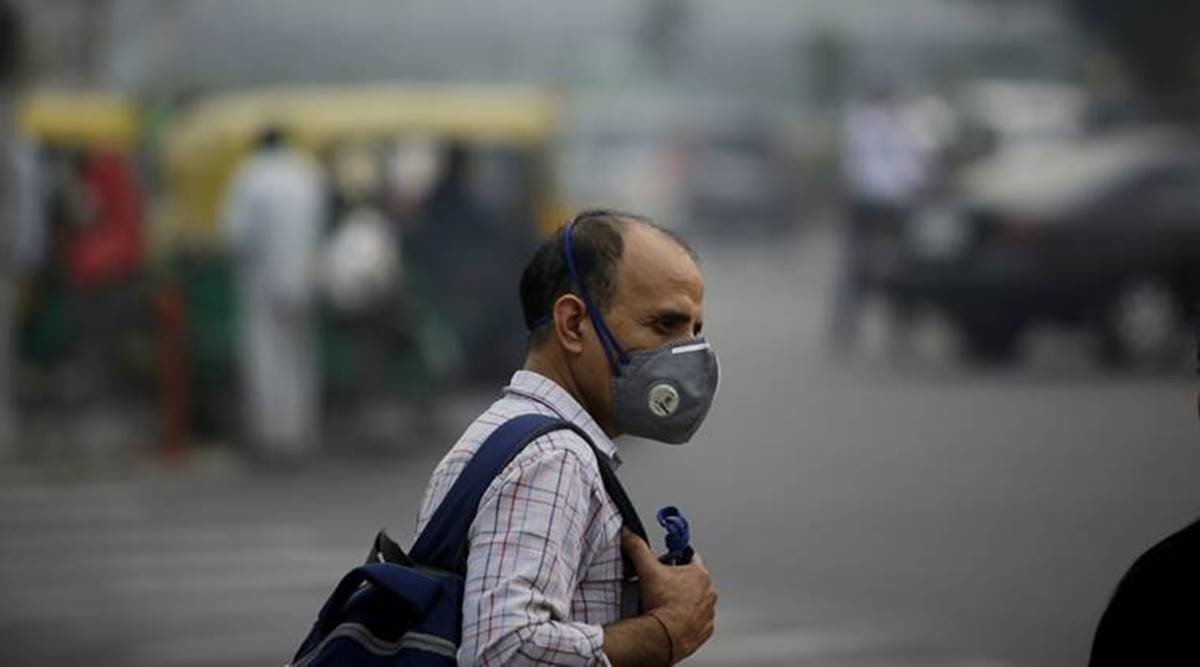face_with_mask: (516, 212, 723, 449)
